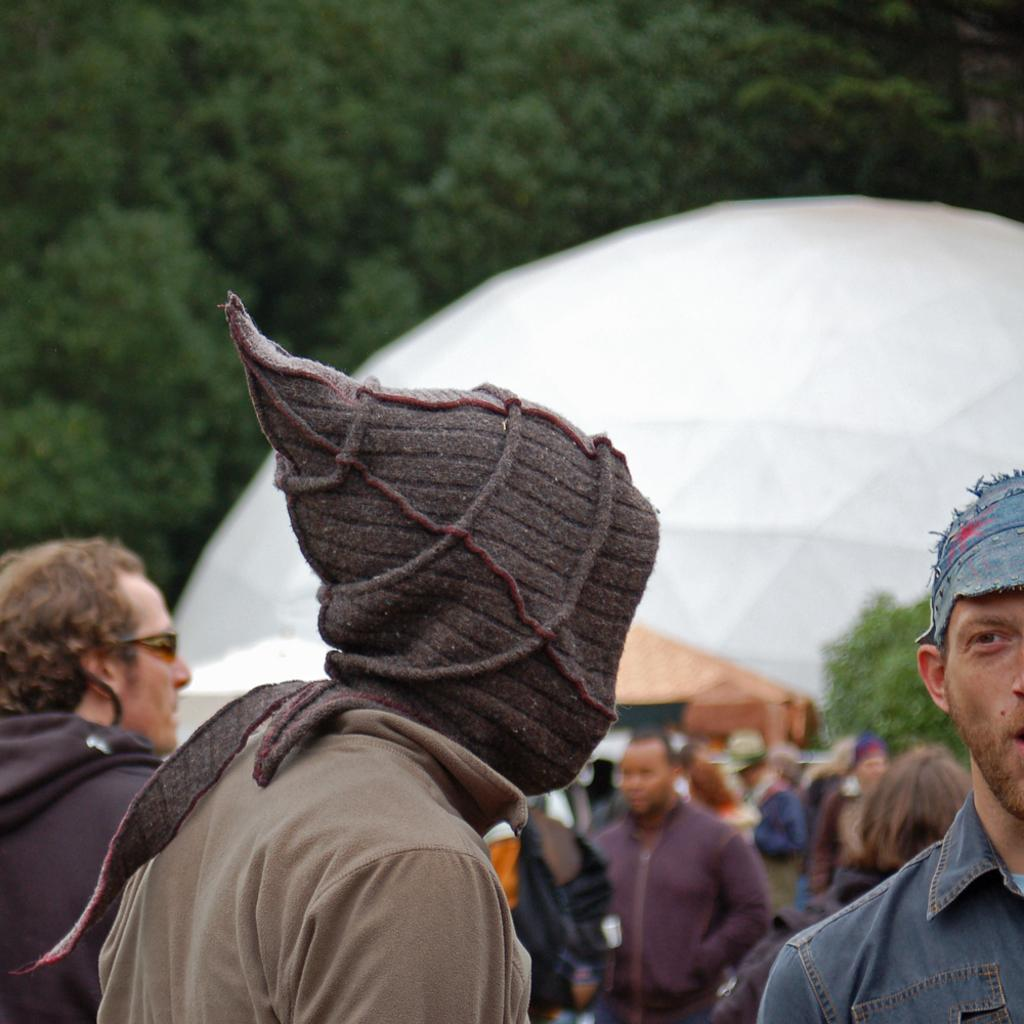Hat: (930, 466, 1022, 644)
